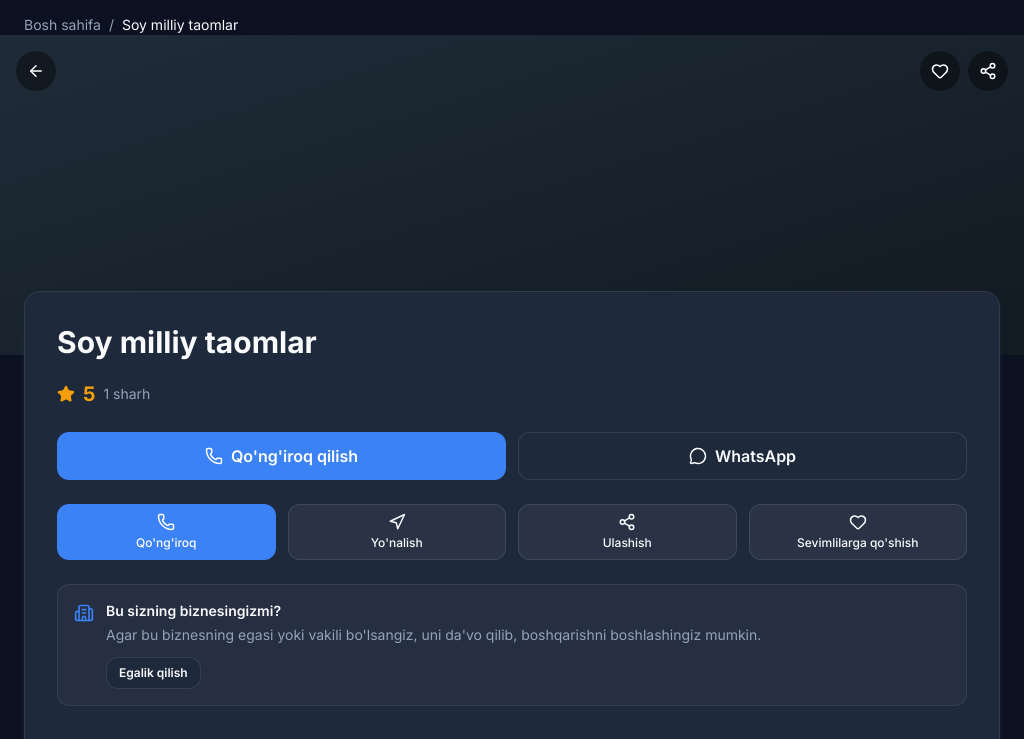
ClaimBusinessSection › submits a claim and shows the pending-review confirmation for a signed-in user
The image size is (1024, 739).
Click the button "Egalik qilish".
click(153, 673)  # box [106, 657, 201, 689]
(page scrolled)
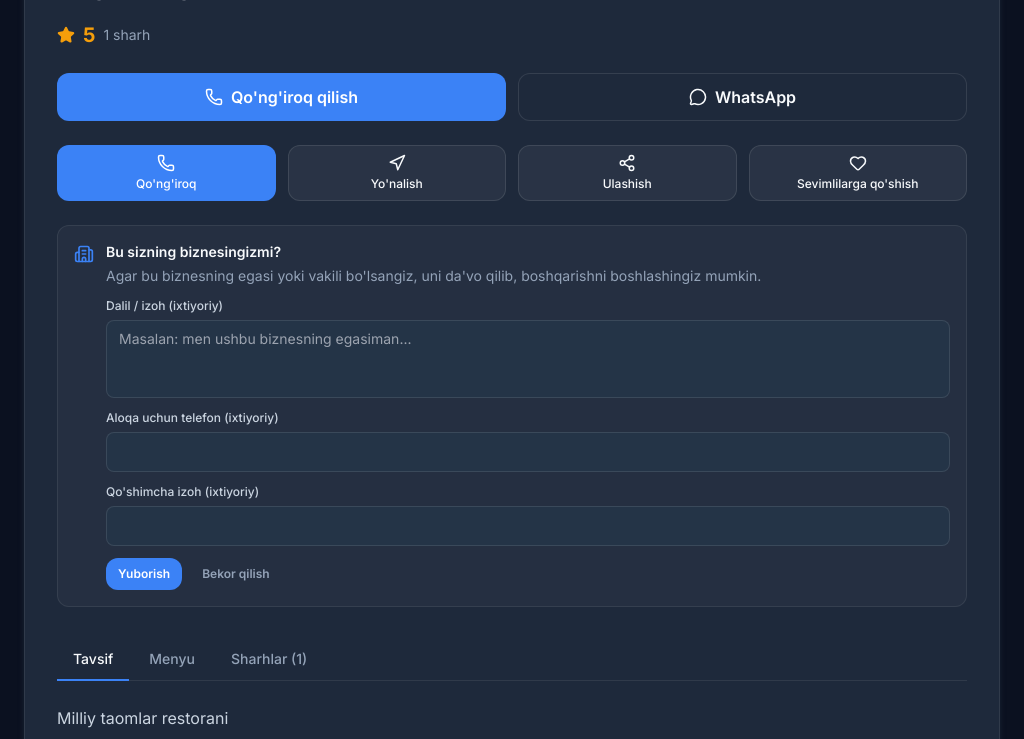
Type "Men egasiman" into the text box with placeholder "Masalan: men ushbu biznesning egasiman...".
click(528, 359); type("Men egasiman")  # box [106, 320, 950, 398]
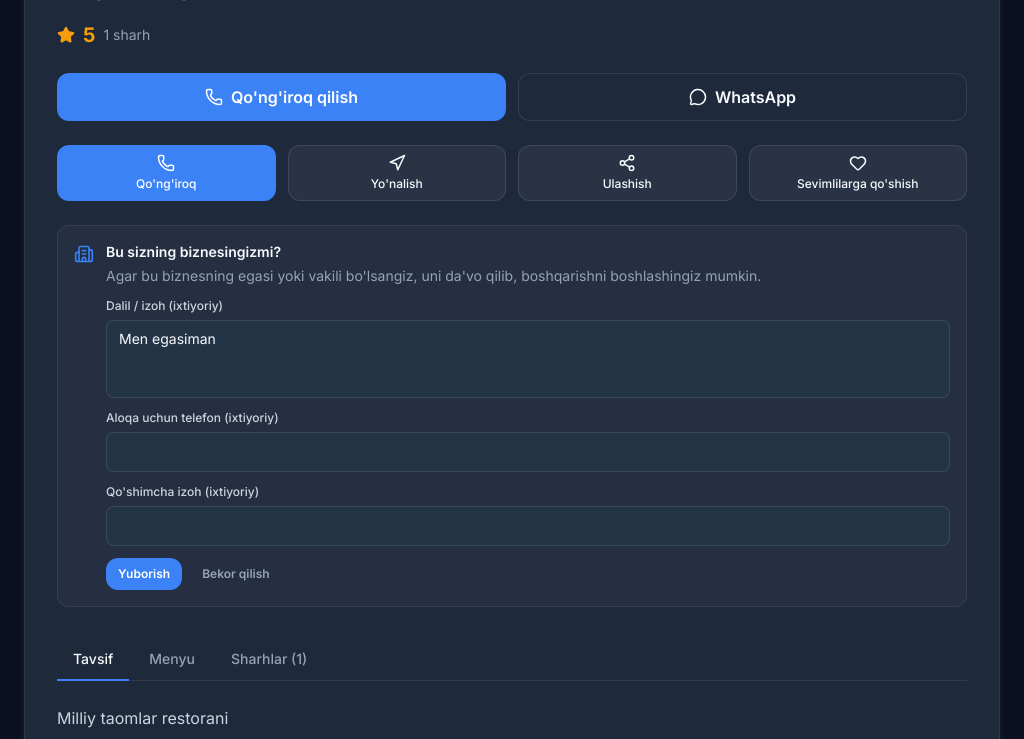
Click the button "Yuborish".
click(144, 574)  # box [106, 558, 182, 590]
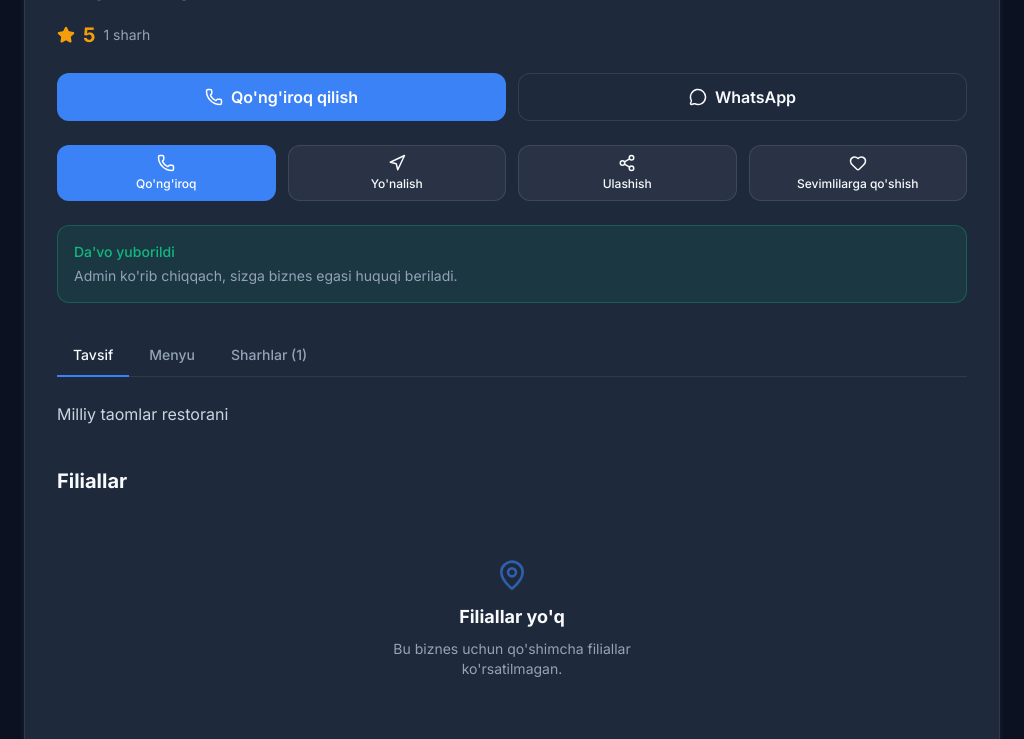
Check: the text "Da'vo yuborildi" is shown, box [74, 243, 175, 260]
